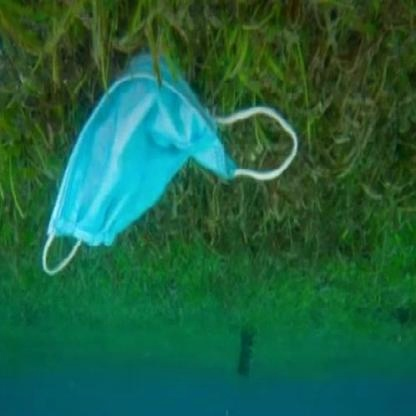misc: (33, 62, 295, 308)
